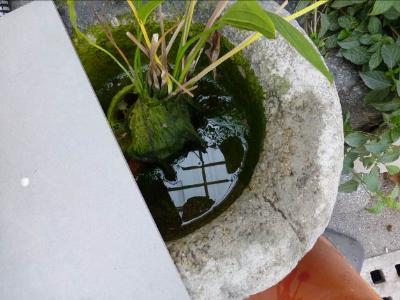bowl: (61, 1, 345, 300)
